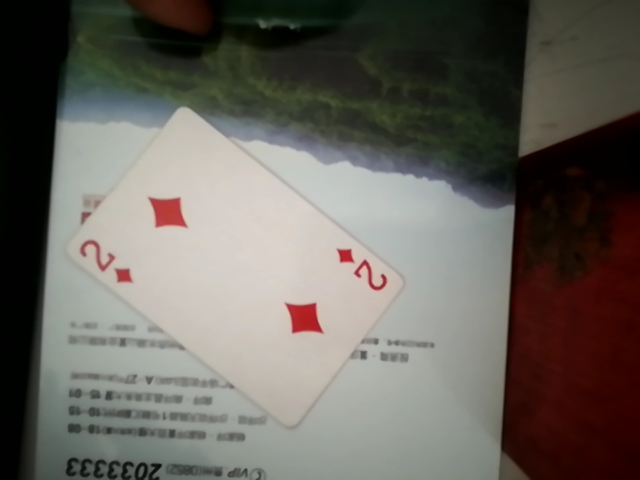fk 2: (54, 105, 411, 419)
